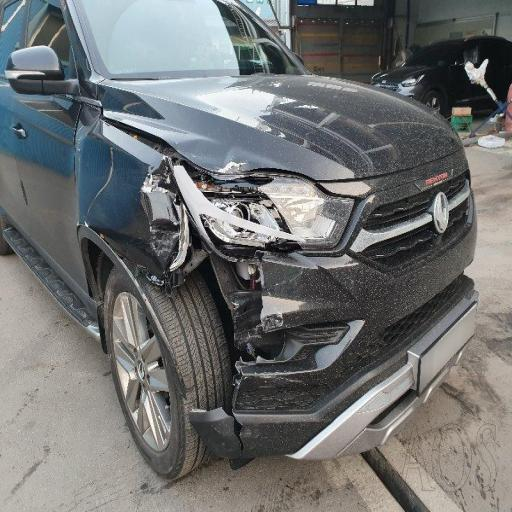broken: (141, 134, 304, 465)
